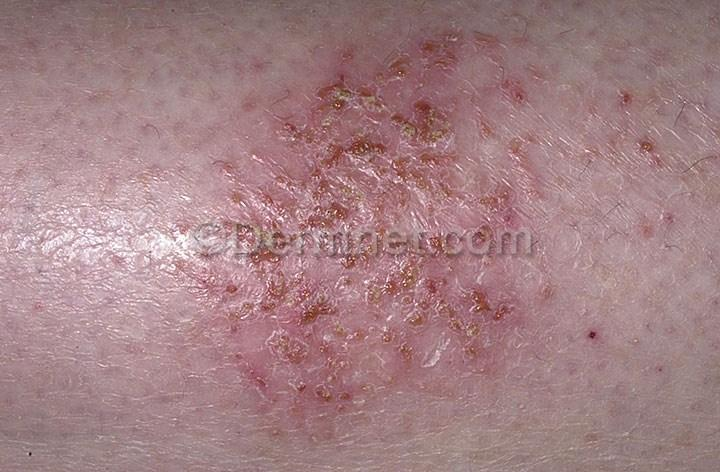Eczema: (181, 73, 558, 433)
